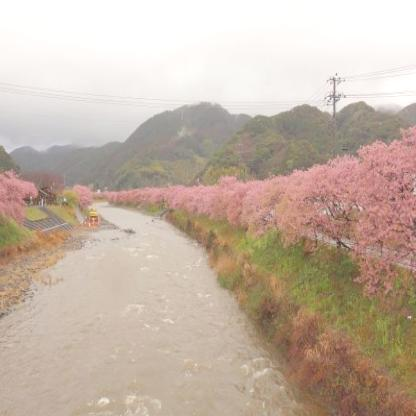KawazuSakura: (283, 118, 416, 300), (107, 176, 407, 223), (1, 162, 41, 234), (72, 176, 98, 212)
